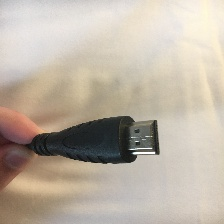hdmi_male: (42, 104, 166, 170)
